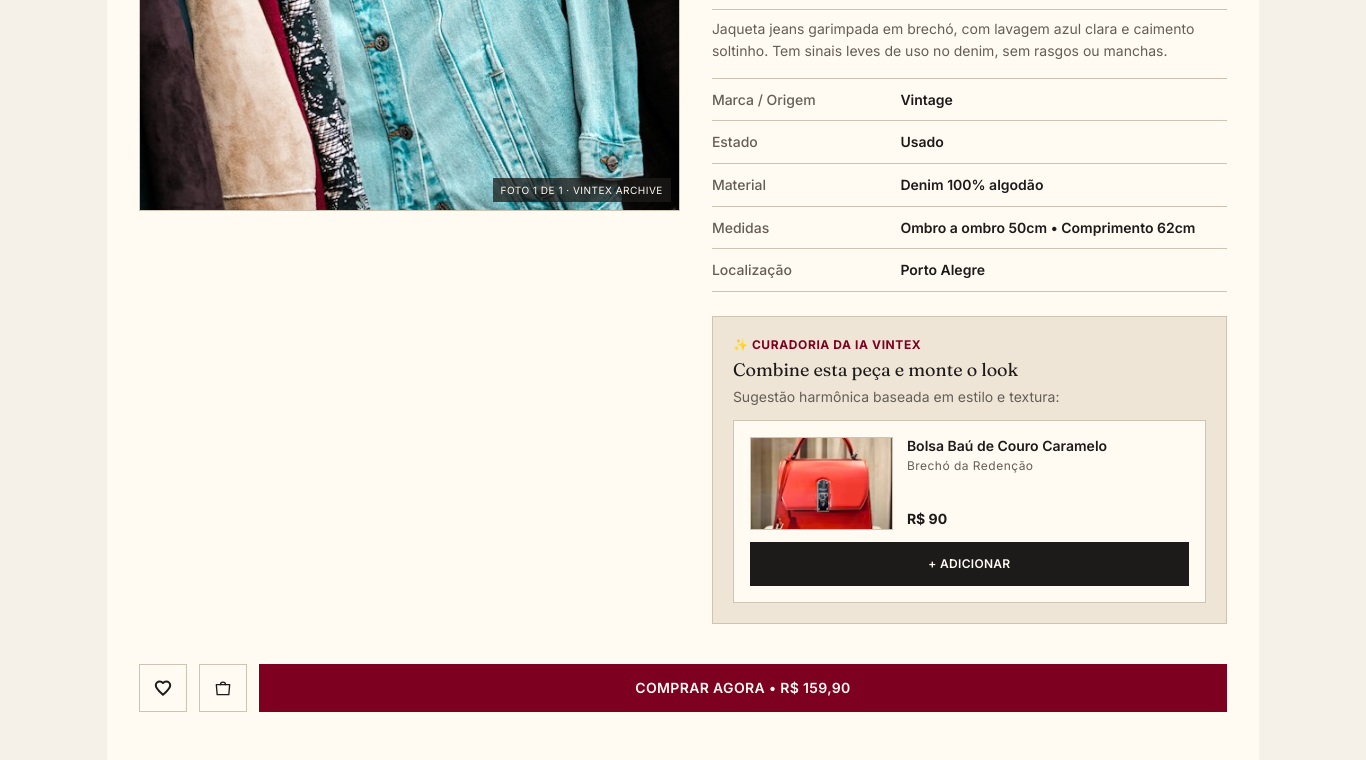
<ProductDetail /> › barreira de login (FE-US012-5, #88) › deslogado: favoritar abre a barreira de login
(page scrolled)
Click the button named "Adicionar aos favoritos" at [163, 688], box [141,666,185,710]
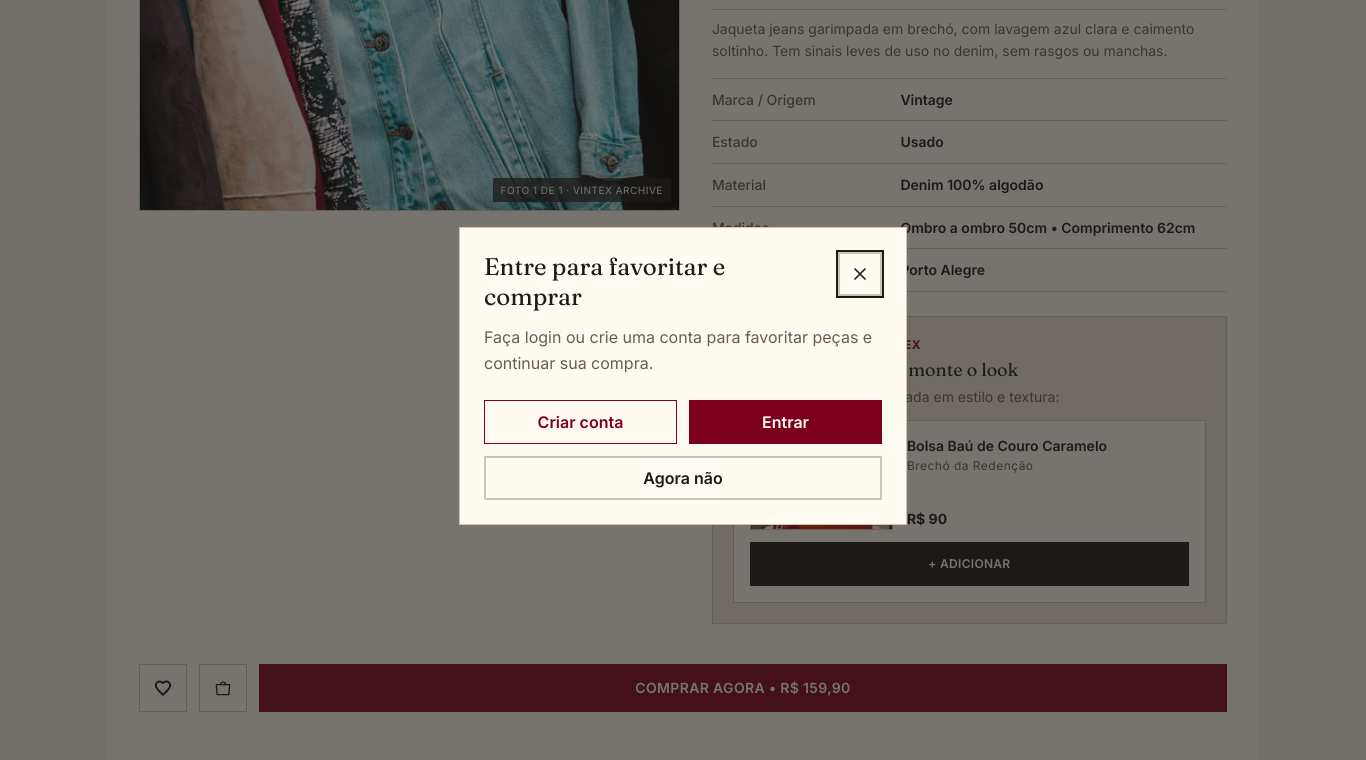
Check: the dialog is shown, box [459,227,907,525]
